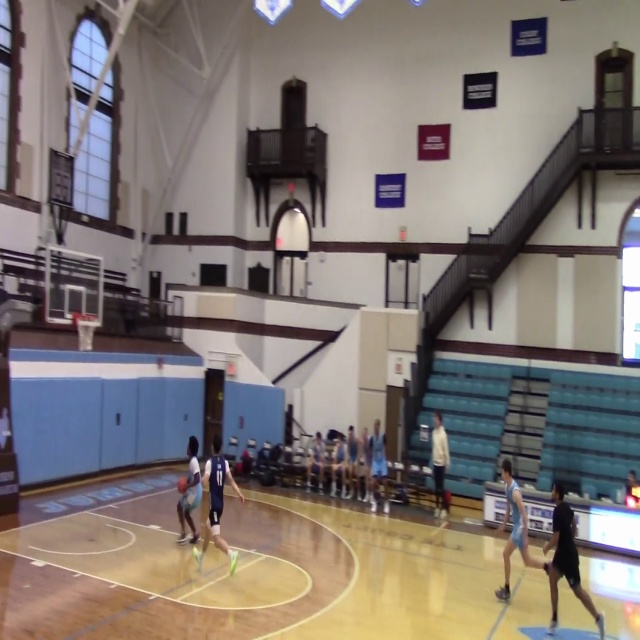Basketball: (177, 472, 200, 494), (177, 477, 188, 494)
